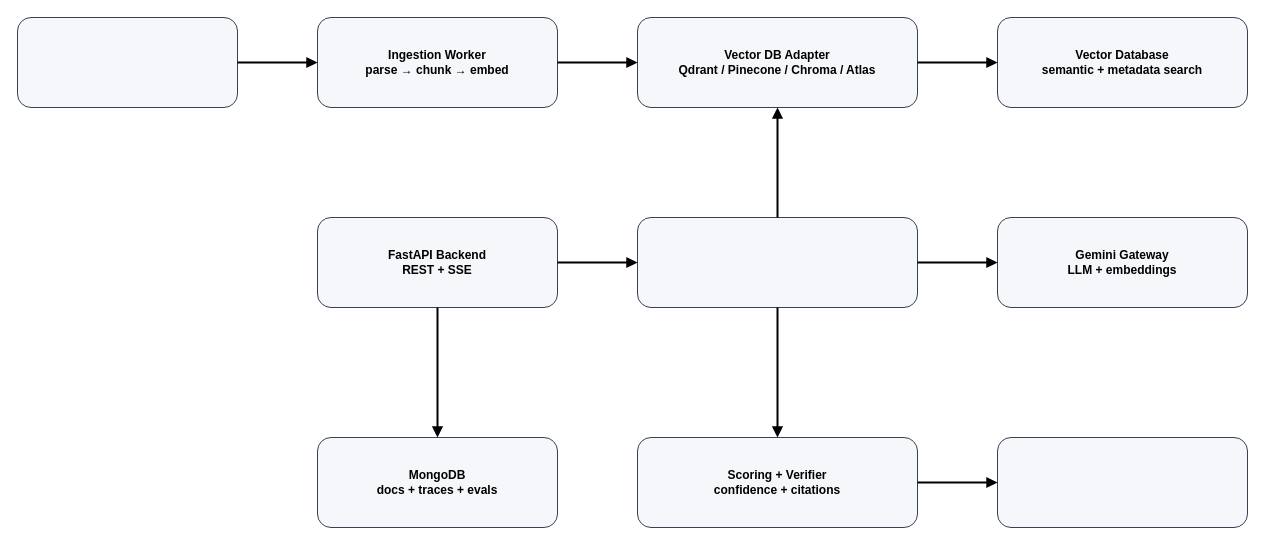
The diagram is 1265 pixels wide and 545 high, and some of its shapes have lost their labels. Each missing label, with the centre of its shape:
"Folder / Drive PDF, DOCX, MD, TXT" belongs at point 127,62.
"LangGraph RAG retrieve → rerank → answer" belongs at point 777,262.
"React UI answer + scores + trace" belongs at point 1122,482.
